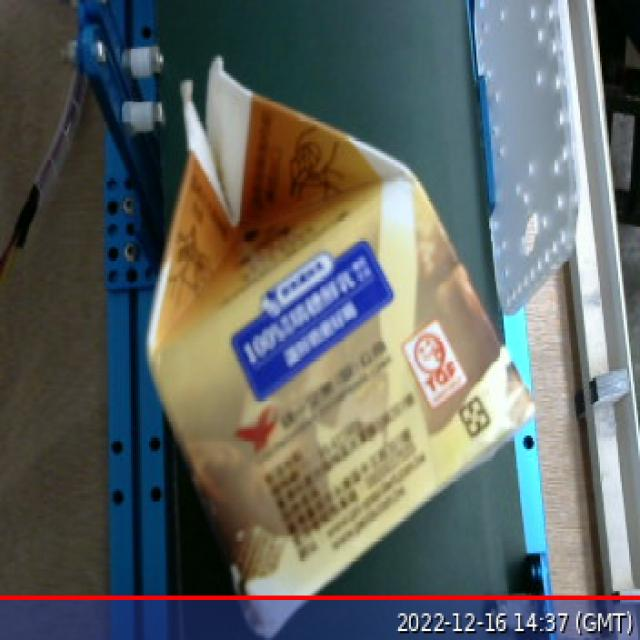non_white_jug: (114, 30, 554, 639)
